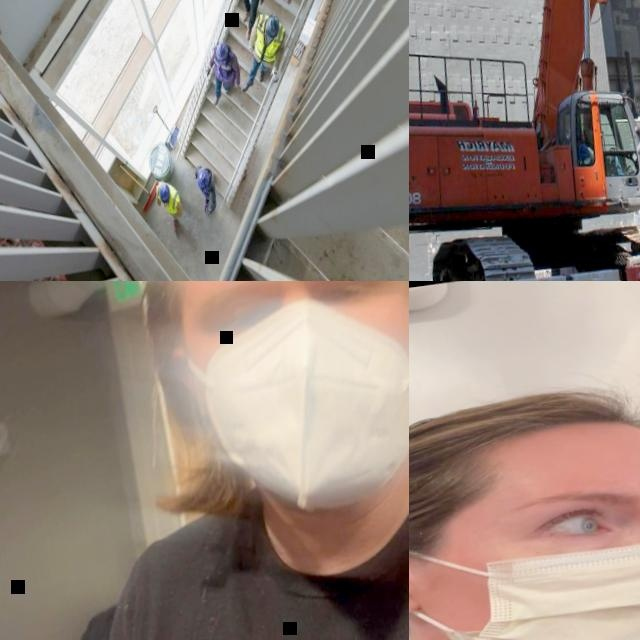Hardhat: (264, 15, 280, 41), (213, 42, 228, 64), (196, 170, 210, 190), (158, 183, 171, 204)
Mask: (180, 285, 409, 530), (409, 495, 640, 640)
NO-Hardhat: (409, 377, 640, 518)
NO-Safety Vest: (110, 432, 409, 640)
Person: (7, 281, 409, 640), (409, 355, 640, 640), (232, 11, 292, 94), (201, 41, 243, 107), (226, 0, 277, 41), (154, 179, 184, 234), (193, 165, 219, 218)
Safety Vest: (250, 11, 289, 64), (155, 180, 181, 216), (212, 43, 237, 80)
machinery: (409, 0, 640, 281)
